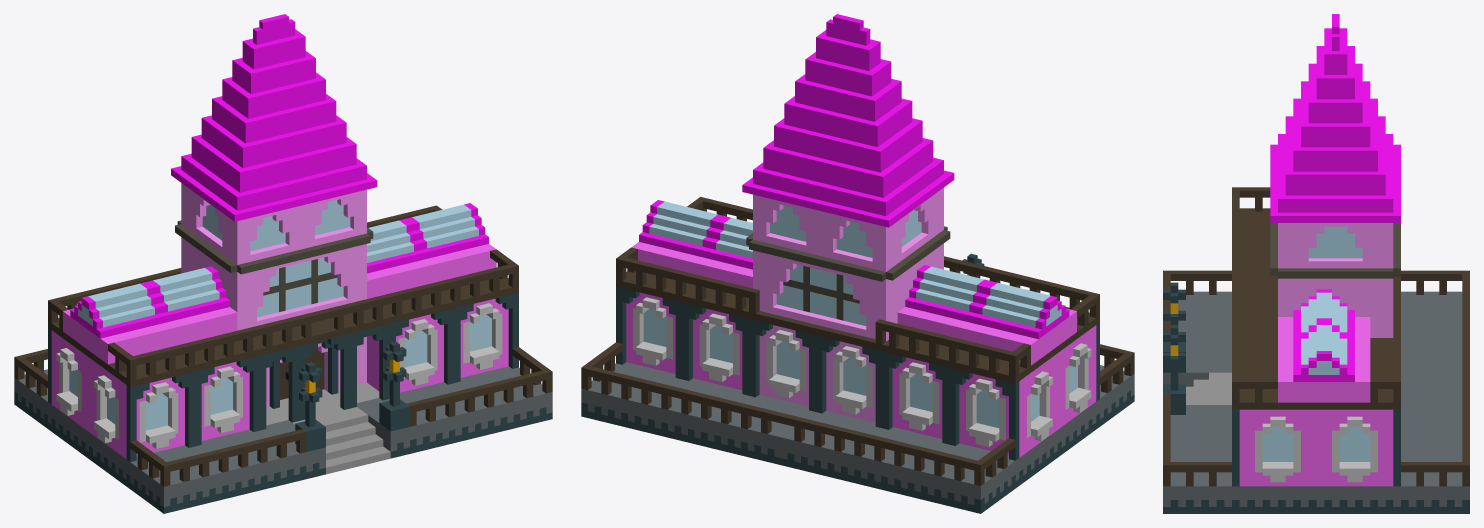
File: headquarters.obj
3 renders of one model, left to right at view 1: azimuth 30°, elevation 25°; view 2: azimuth 150°, elevation 25°; view 3: azimuth 270°, elevation 25°, orthographic. The views are drawn at different scales.
Size of the model in its own units: 6.2 by 5.7 by 4.
Materials: 1 (1 with a texture image).
